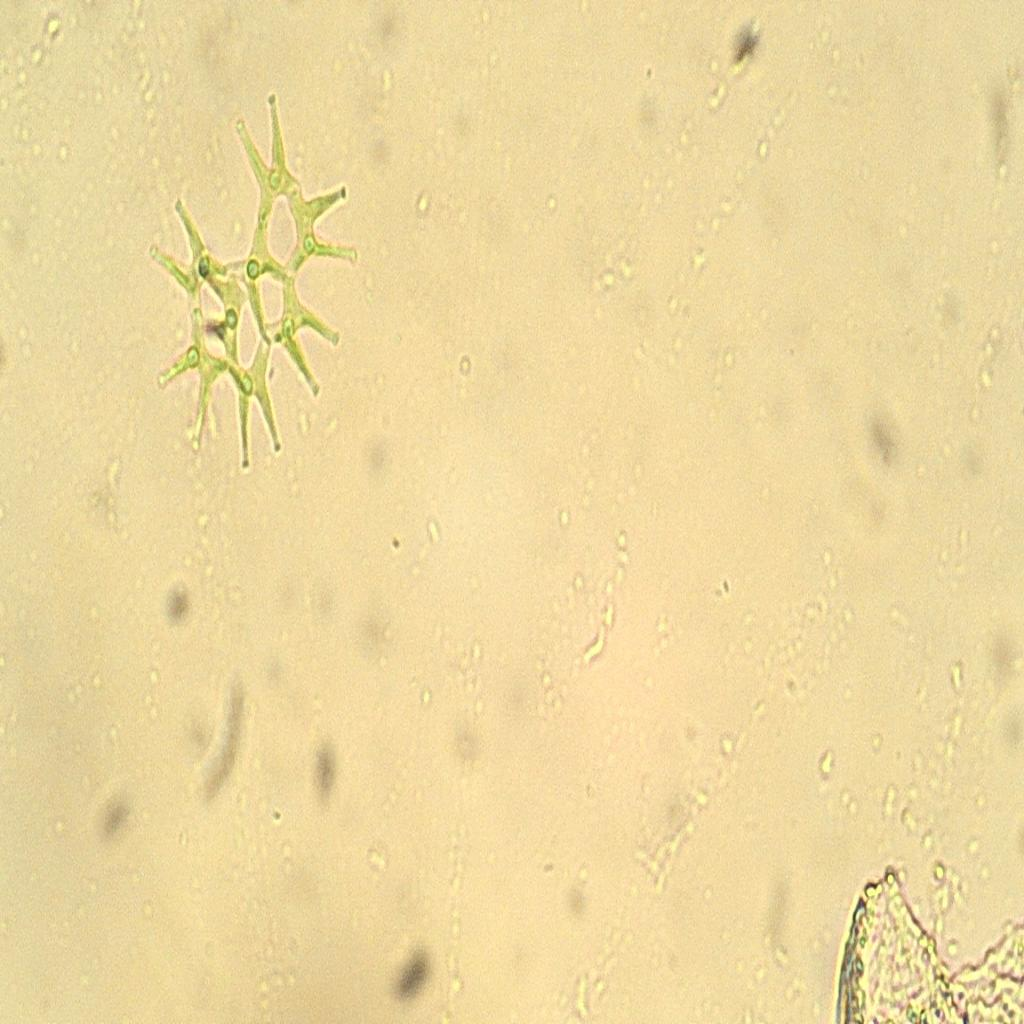Pediastrum_CFI: (143, 77, 363, 484)
